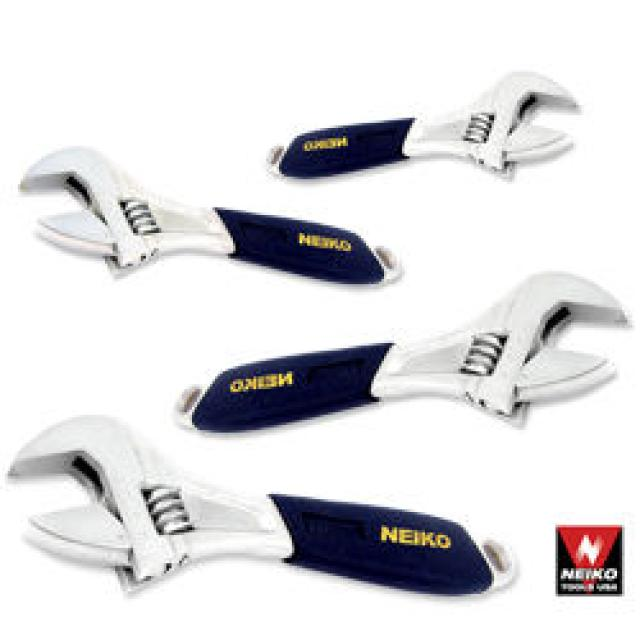wrench: (0, 412, 500, 632), (8, 137, 394, 301), (266, 70, 613, 188)
